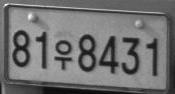1: (143, 37, 163, 76), (33, 30, 52, 69)
3: (120, 36, 141, 75)
4: (98, 34, 119, 74)
8: (11, 28, 31, 68), (77, 33, 97, 72)
우: (53, 39, 72, 70)
